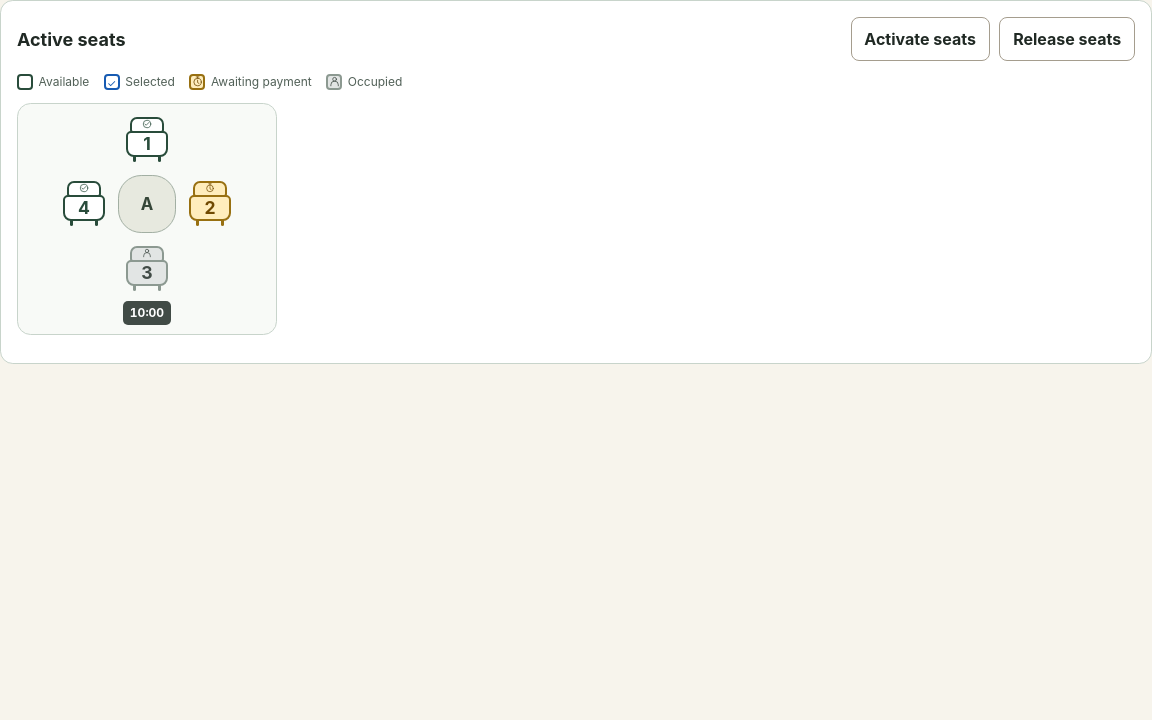
it: defaults each seat to ten minutes and submits independently selected durations only on confirmation
Step 1. Click the button "Activate seats" → (920, 39), box left=851, top=17, right=990, bottom=61
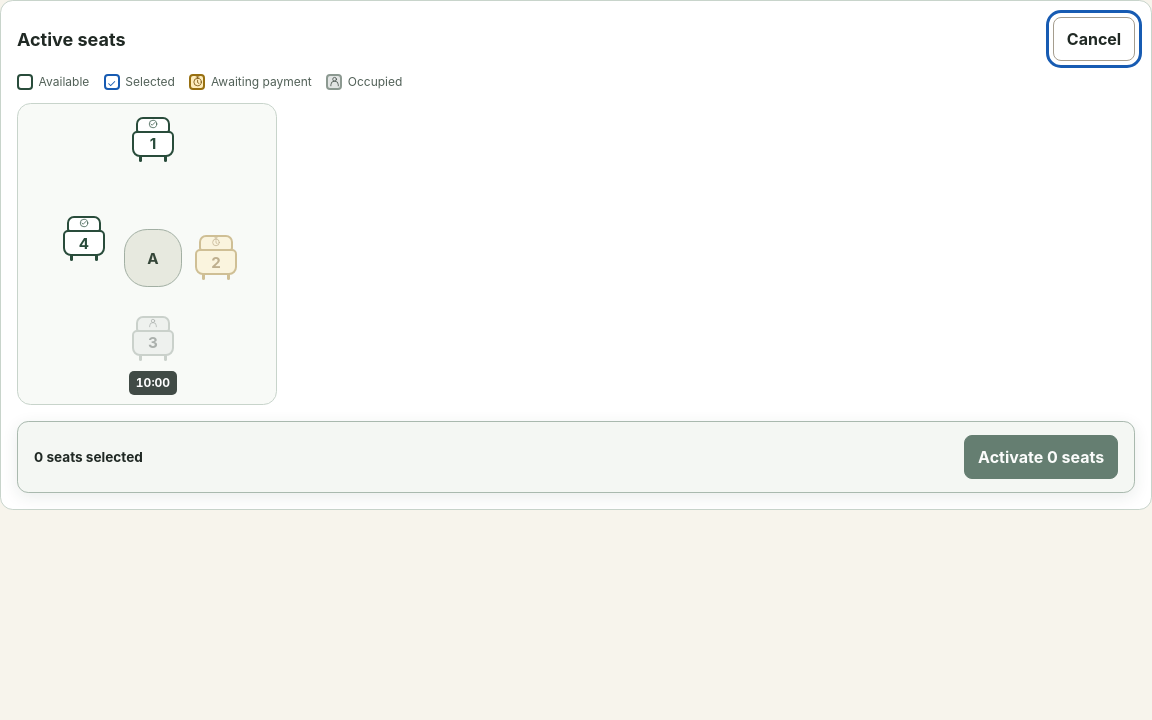
Step 2. Click the button named "Table A · Seat 1" → (153, 140), box left=127, top=114, right=179, bottom=166
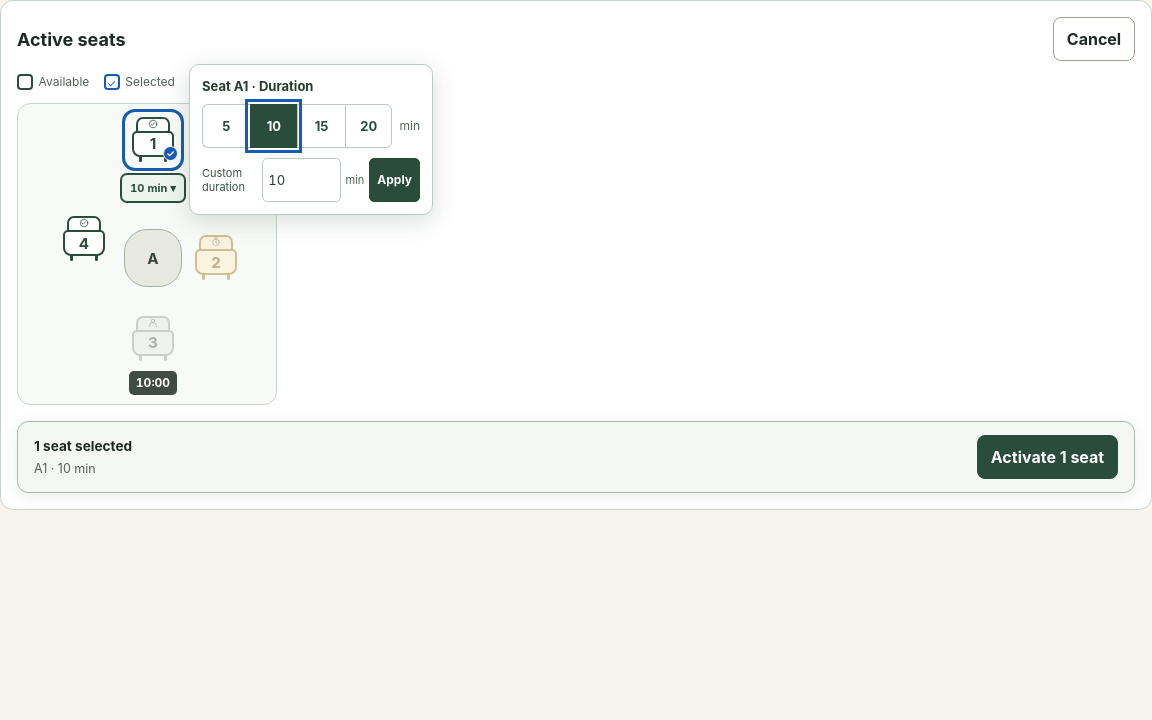
Step 3. Click the button named "5 minutes for Table A · Seat 1" → (226, 126), box left=202, top=104, right=250, bottom=148
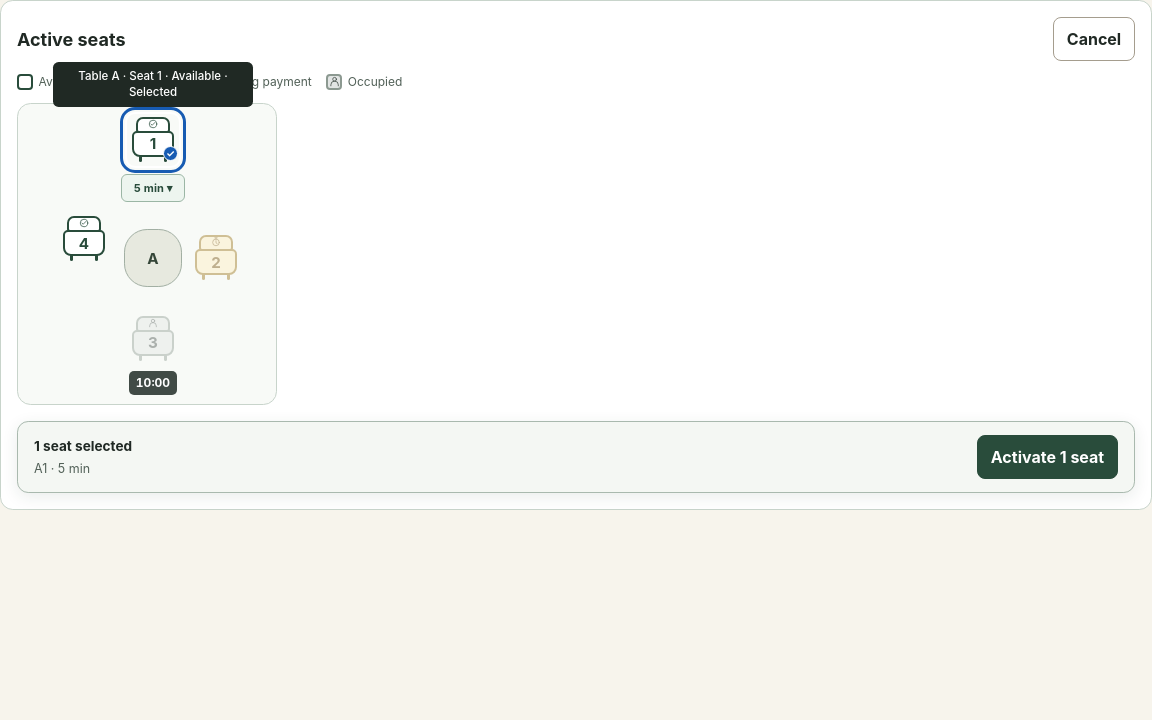
Now the dialog is gone
Step 4. Click the button named "Table A · Seat 4" → (84, 239), box left=58, top=213, right=110, bottom=265
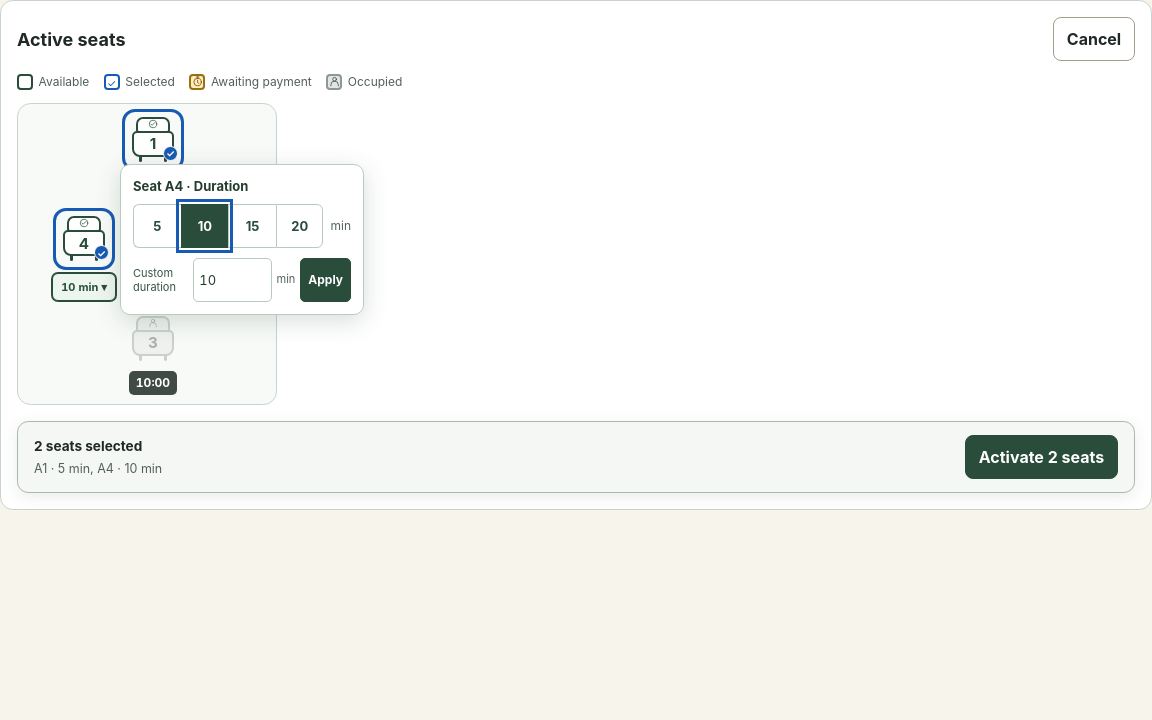
Step 5. Click the button named "15 minutes for Table A · Seat 4" → (252, 226), box left=228, top=204, right=276, bottom=248
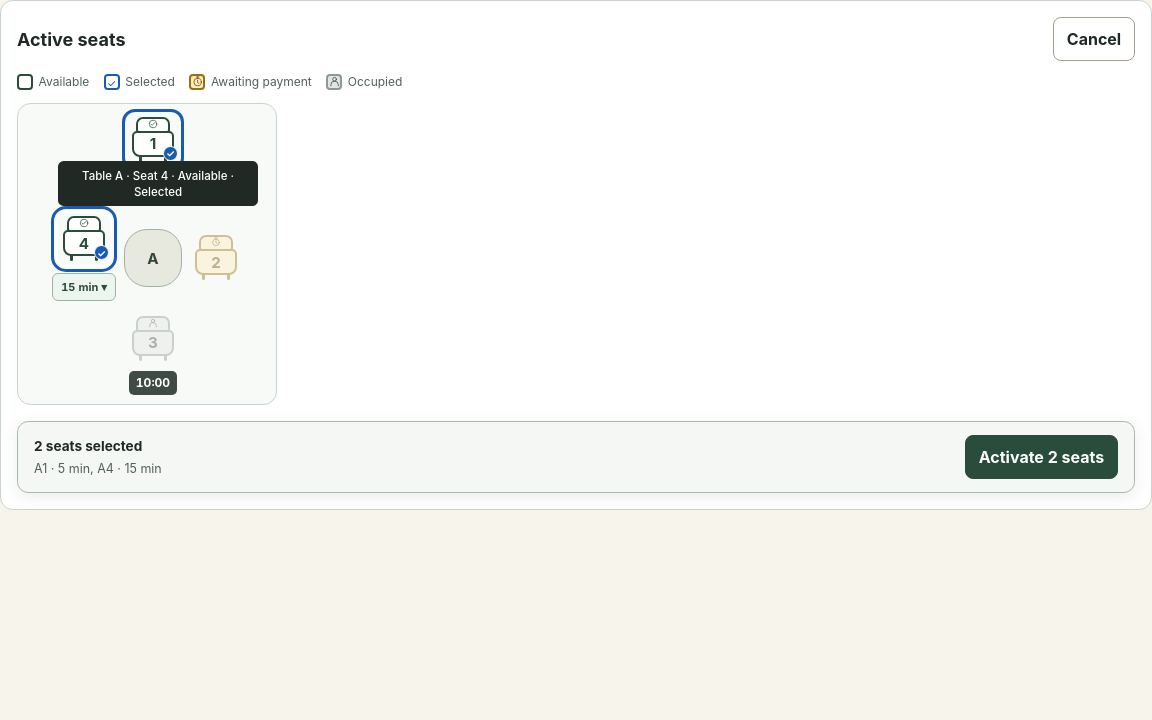
Now the element named "Selected seats" shows "A1 · 5 min, A4 · 15 min", box left=34, top=461, right=162, bottom=476
Step 6. Double-click the button "Activate 2 seats" → (1042, 457), box left=965, top=435, right=1118, bottom=479
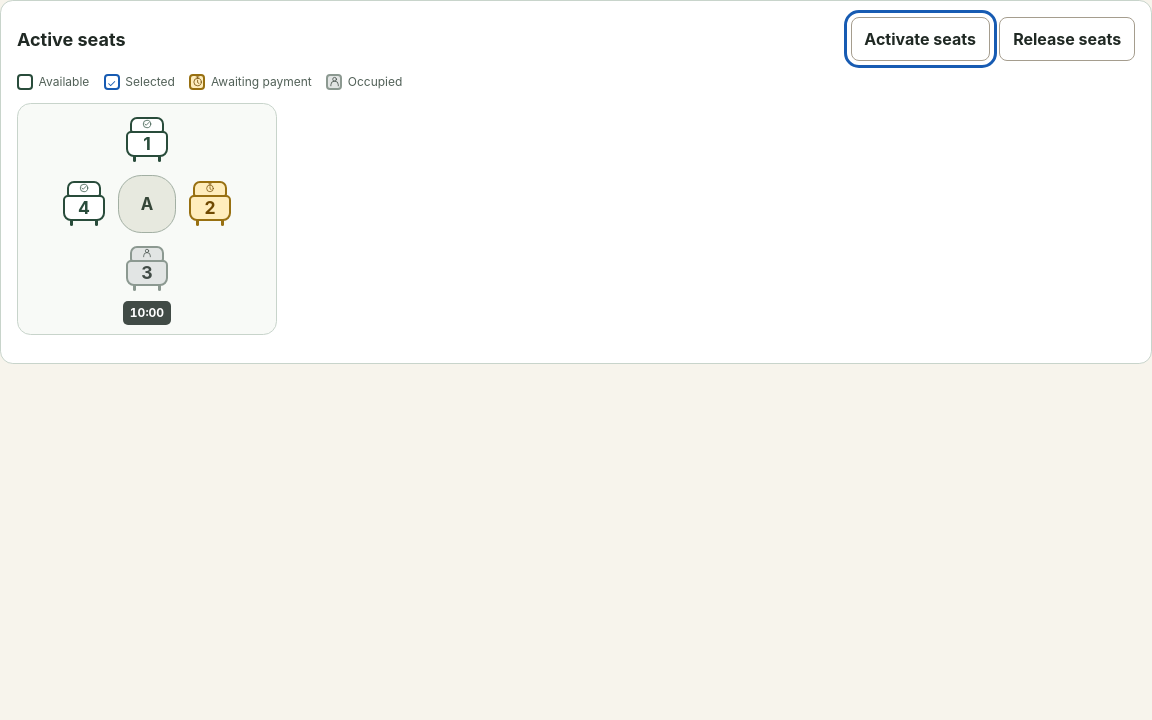
Now the button "Release seats" is shown, box left=999, top=17, right=1135, bottom=61
